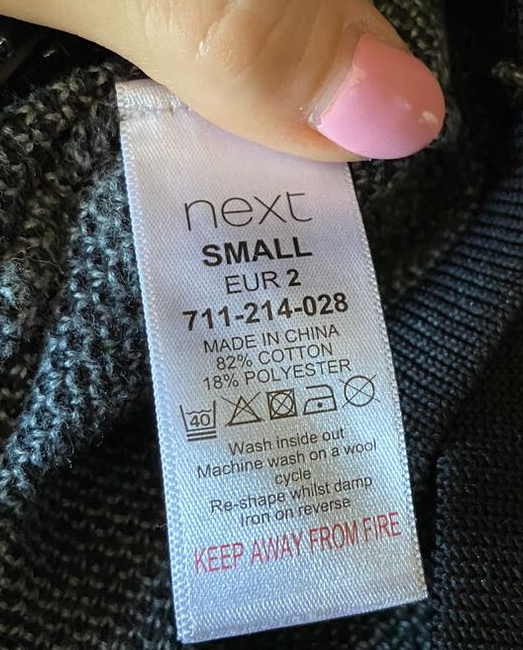do_not_bleach: (220, 387, 267, 432)
do_not_dry_clean: (337, 370, 383, 407)
do_not_tumble_drying: (266, 383, 301, 426)
ironing_at_low_temp: (301, 377, 339, 416)
wash_at_or_below_40_very_mild_fine_wash: (180, 397, 220, 445)
